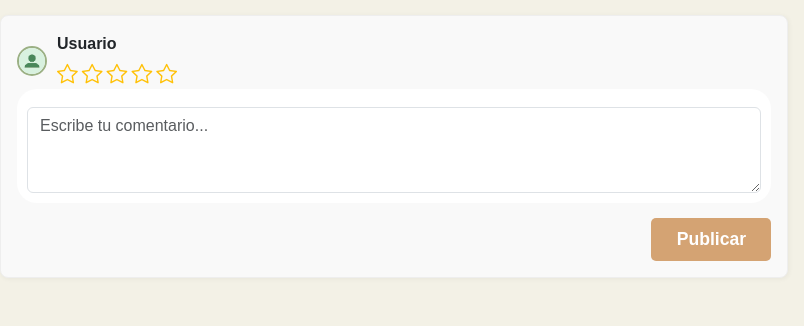
RecetaComentario › muestra error si no se completa el comentario o la valoración
This screenshot has width=804, height=326.
Click the button "Publicar".
click(712, 239)  # box 652,218 -> 772,261
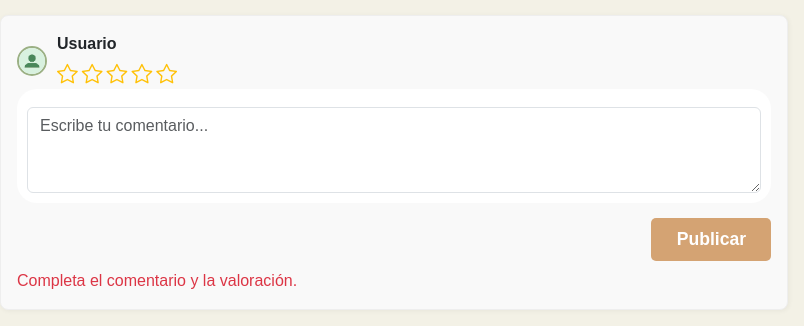
Now the text "Completa el comentario y la valoración." is shown, box 17,272 -> 297,289
